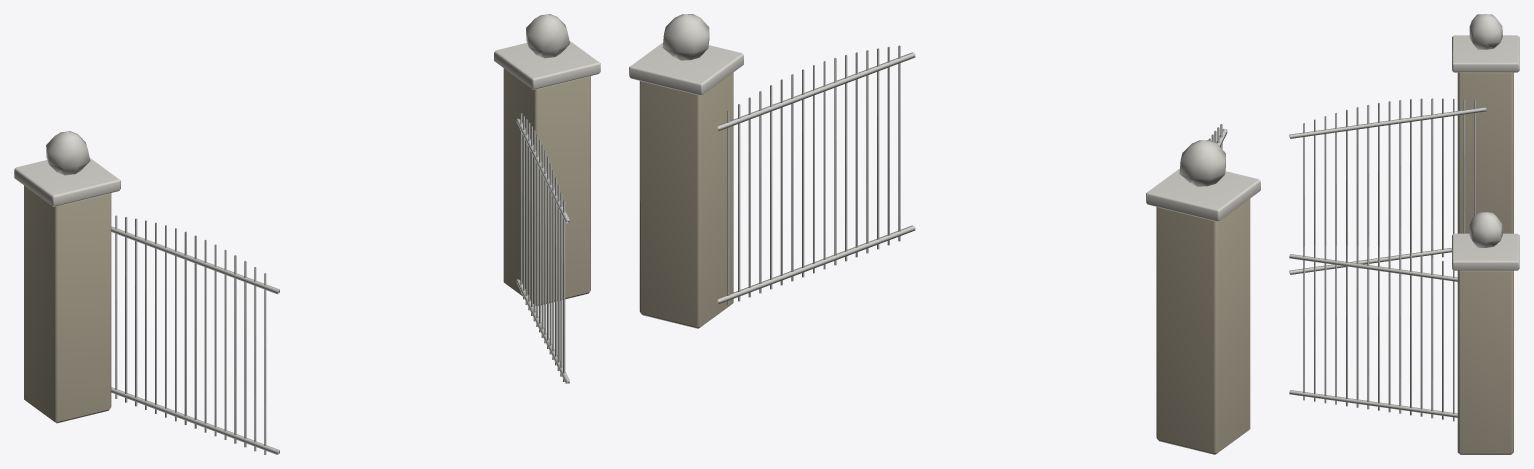
Rendered from SchoolGateFL.fbx.
The picture shows the model from 3 angles, left to right: view 1: azimuth 30°, elevation 25°; view 2: azimuth 150°, elevation 25°; view 3: azimuth 270°, elevation 25°; orthographic projection. The views are drawn at different scales.
Visible parts, largest first — view 1: SchoolGateFL; view 2: SchoolGateFL; view 3: SchoolGateFL.
Boxes of the visible parts, x1,y1,x2,y2 form: SchoolGateFL: (14,14,600,454); SchoolGateFL: (629,14,1260,454); SchoolGateFL: (1289,14,1519,454).
Bounding box in the file's own units: 5.72 × 2.73 × 2.45.
